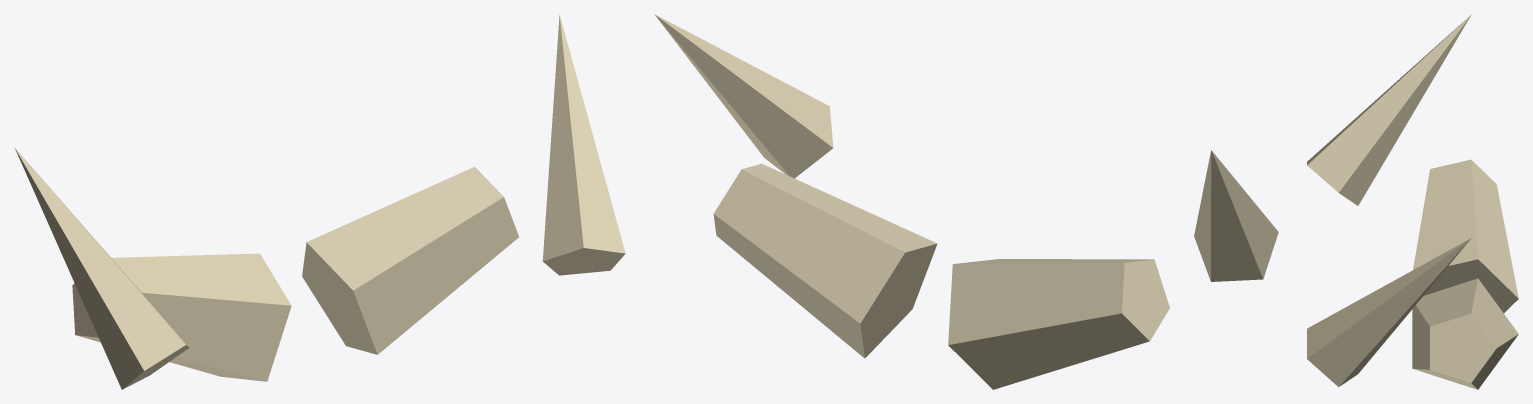
File: extra_horns.glb
3 views of the same model, side by side, from view 1: azimuth 30°, elevation 25°; view 2: azimuth 150°, elevation 25°; view 3: azimuth 270°, elevation 25° (orthographic). The views are drawn at different scales.
Parts seen in each view (by area): view 1: extra_horns; view 2: extra_horns; view 3: extra_horns.
Boxes of the visible parts, bbox=[...] form: extra_horns: bbox=[15, 15, 625, 389]; extra_horns: bbox=[654, 14, 1278, 389]; extra_horns: bbox=[1307, 14, 1518, 389].
Size of the model in its own units: 0.7186 by 0.3571 by 0.2874.
